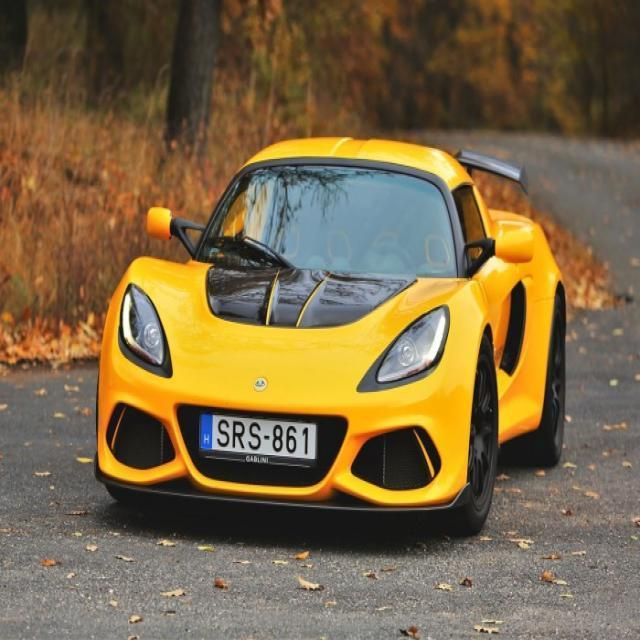licence: (199, 404, 321, 470)
